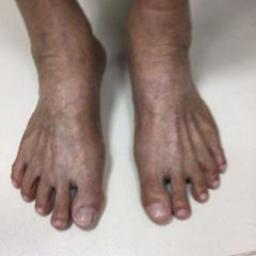Dorsal View -Both Feet-: (5, 8, 235, 234)
